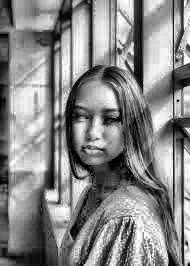sad: (64, 101, 138, 183)
